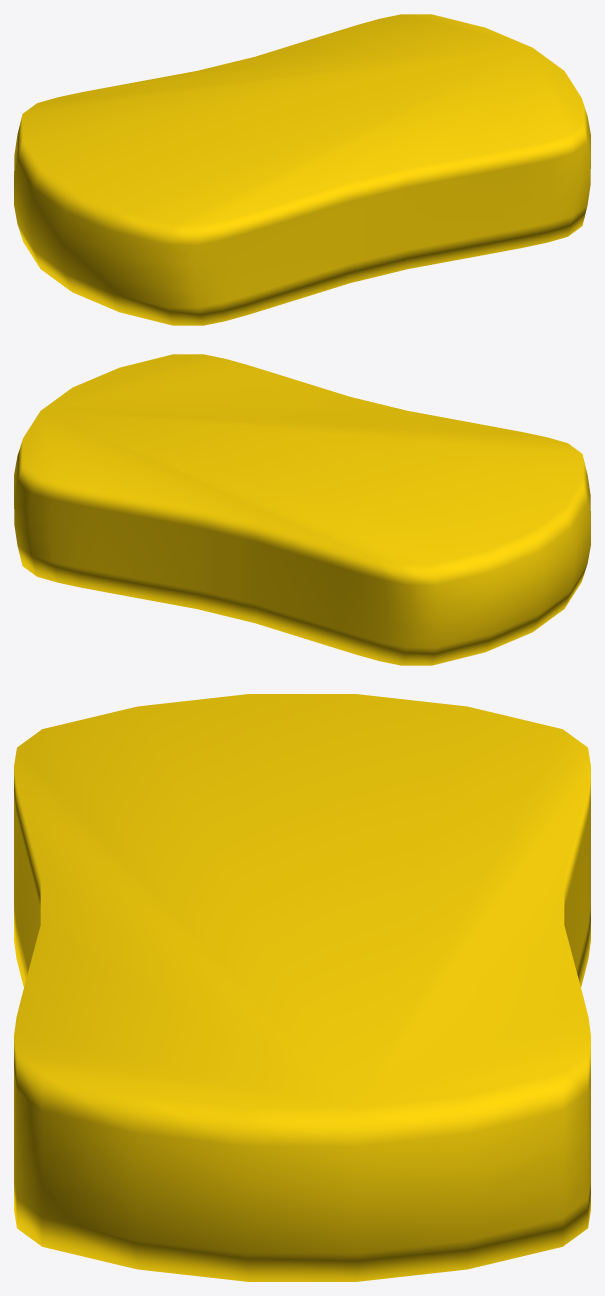
Rendered from sponge.fbx.
The picture shows the model from 3 angles, top to bottom: view 1: azimuth 30°, elevation 25°; view 2: azimuth 150°, elevation 25°; view 3: azimuth 270°, elevation 25°; orthographic projection. The views are drawn at different scales.
Visible parts, largest first — view 1: Cube; view 2: Cube; view 3: Cube.
Part boxes in pixels (left/top/right/bottom): Cube: left=14, top=14, right=590, bottom=325; Cube: left=14, top=354, right=590, bottom=665; Cube: left=14, top=694, right=590, bottom=1281.
Size of the model in its own units: 71.56 by 13.52 by 40.58.
